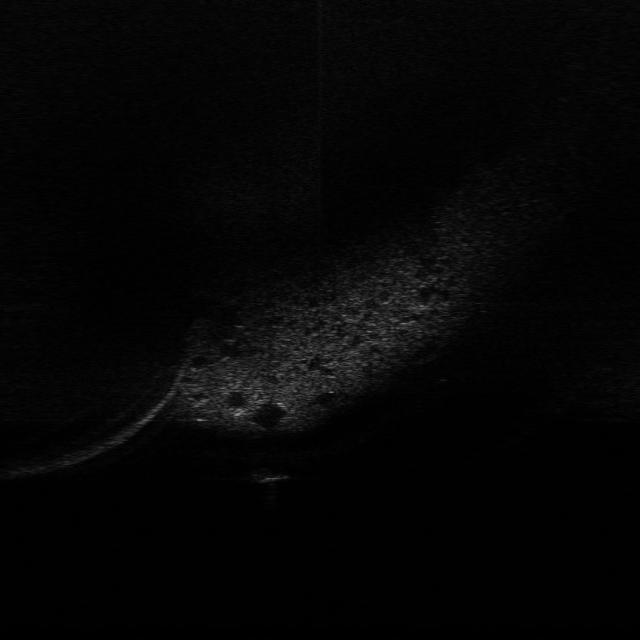cube: (246, 463, 296, 486)
